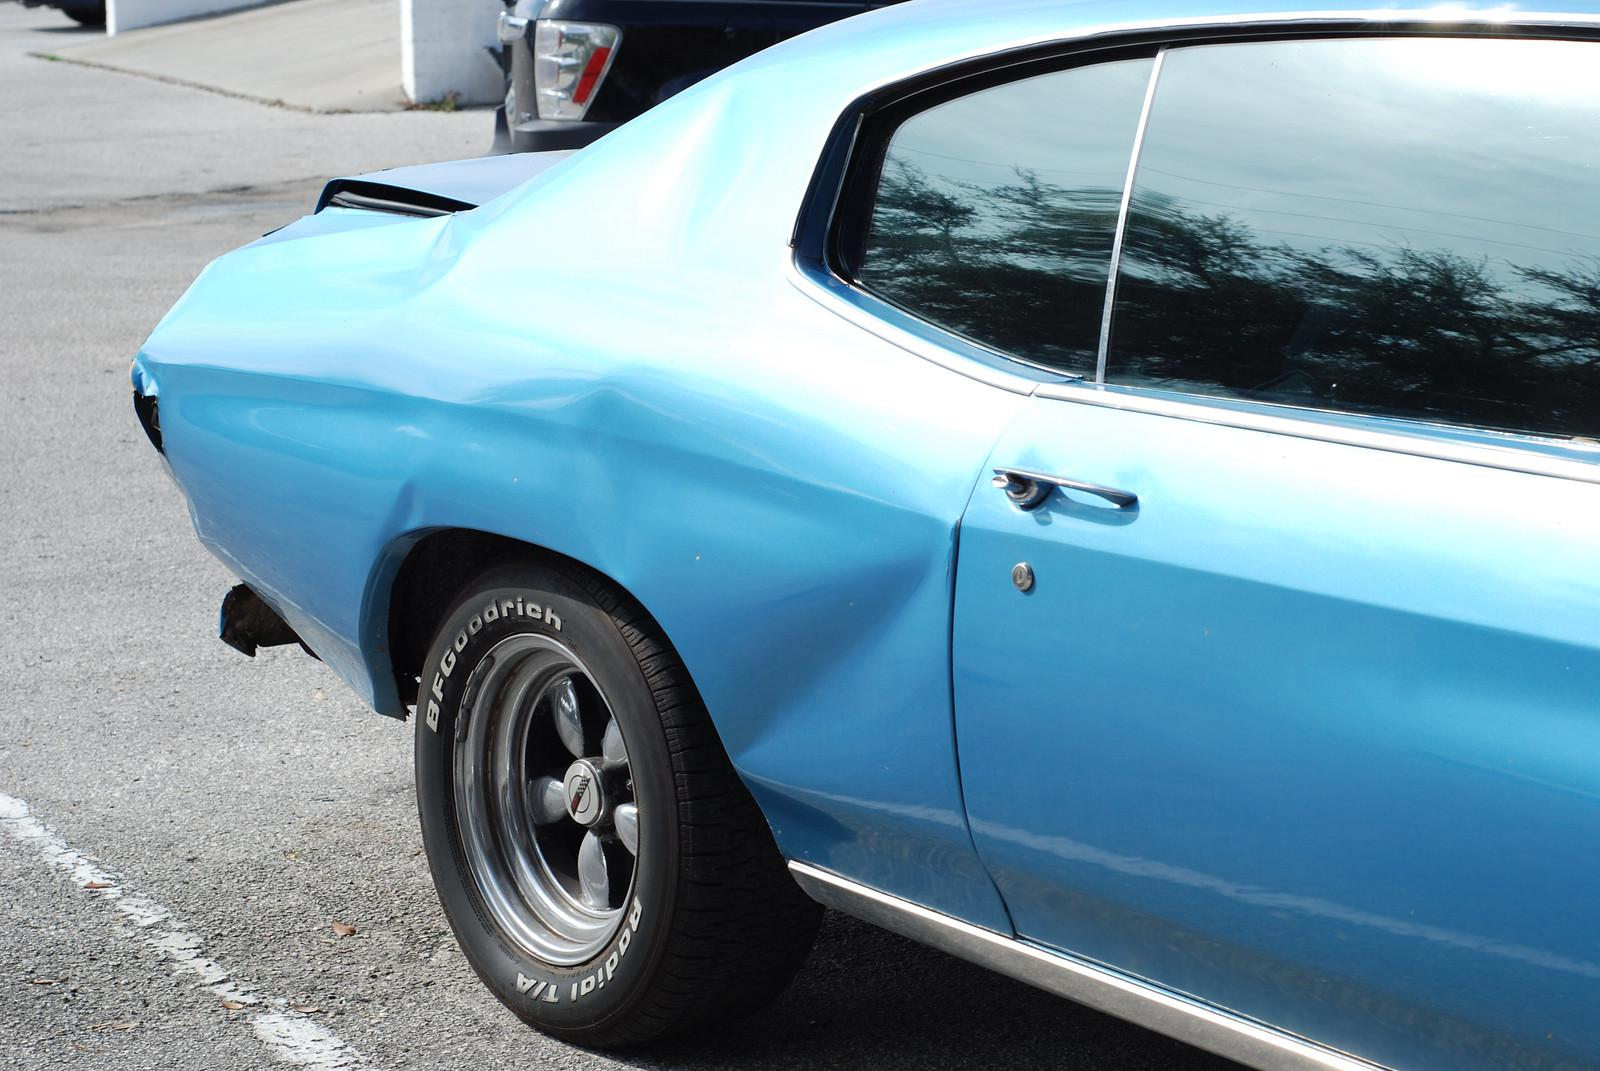quaterpanel-dent: (241, 295, 952, 840)
